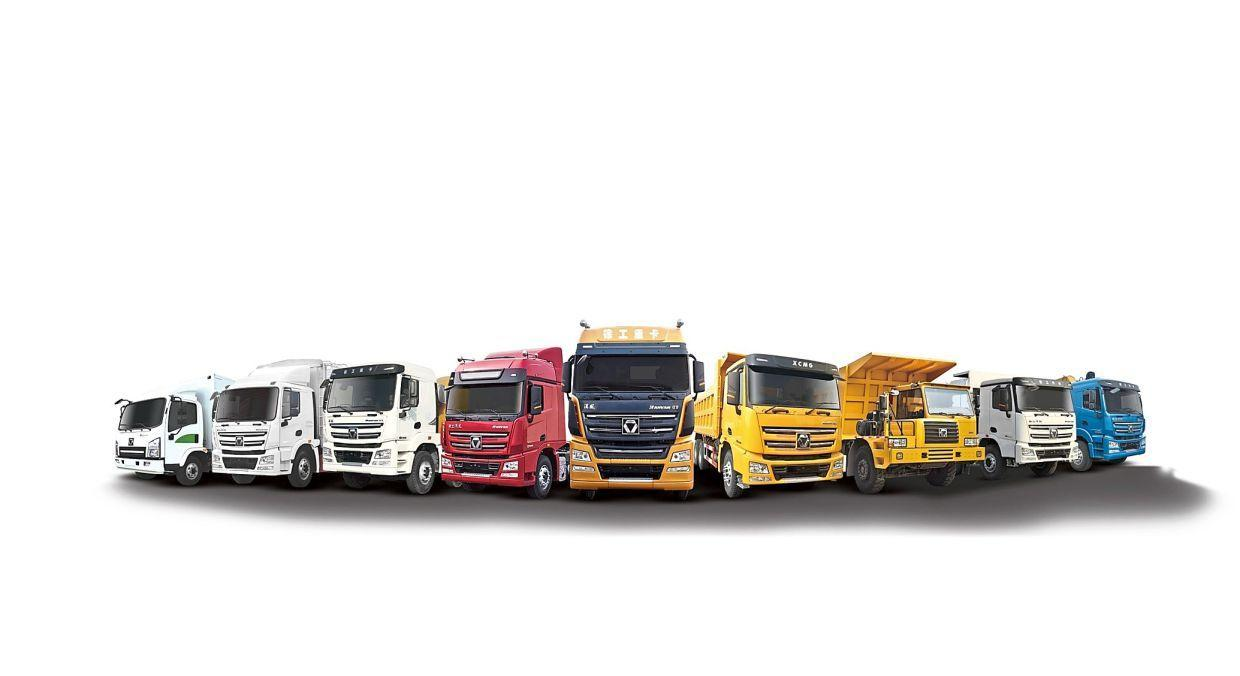truck: (562, 321, 705, 502), (695, 351, 848, 501), (837, 351, 986, 495), (439, 346, 571, 499), (211, 358, 345, 488), (320, 364, 447, 497), (112, 372, 234, 487), (975, 377, 1080, 478), (1072, 372, 1148, 473)
